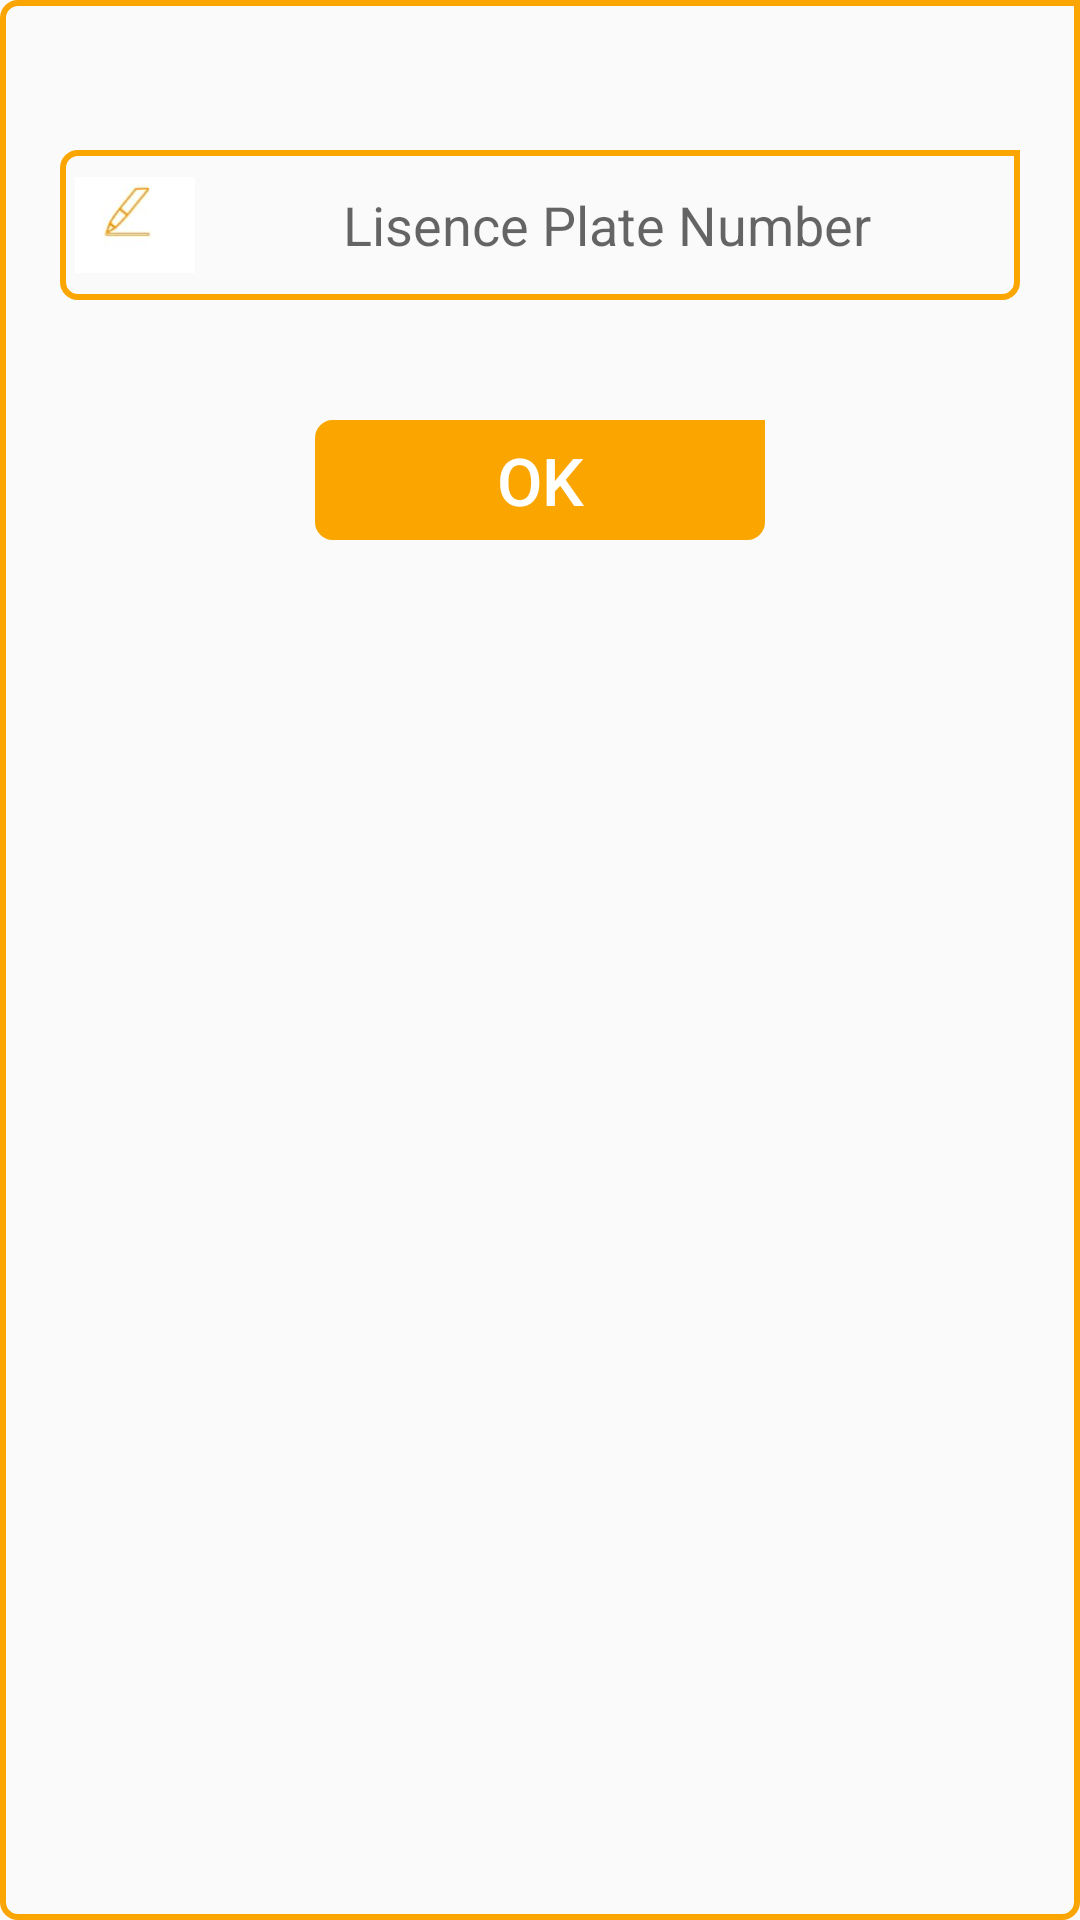

Named icons in this screenshot (1080x1920) and their bounding boxes, rect(x1, y1, x2, y2):
pencil: rect(75, 150, 195, 300)
